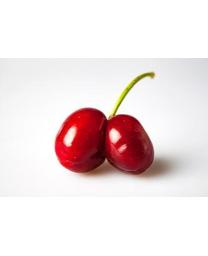cherry: (54, 108, 106, 173), (105, 114, 155, 174)
